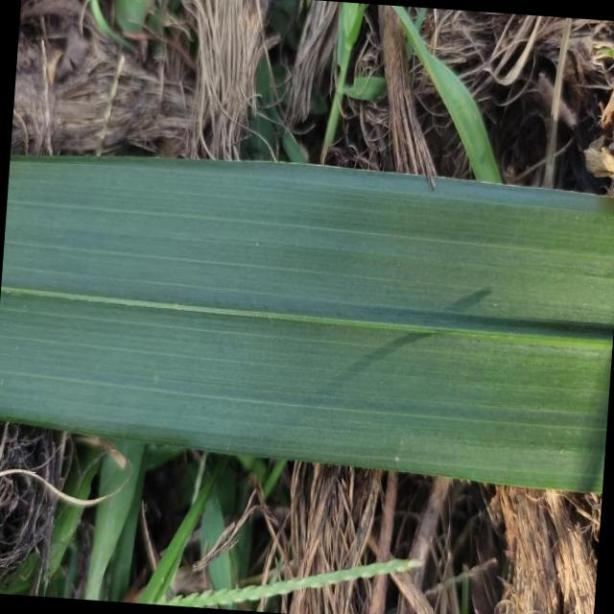Healthy: (0, 160, 614, 497)
